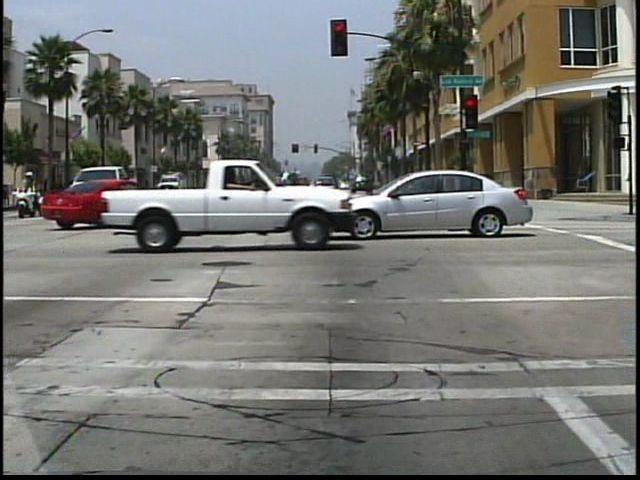person: (15, 169, 43, 200)
